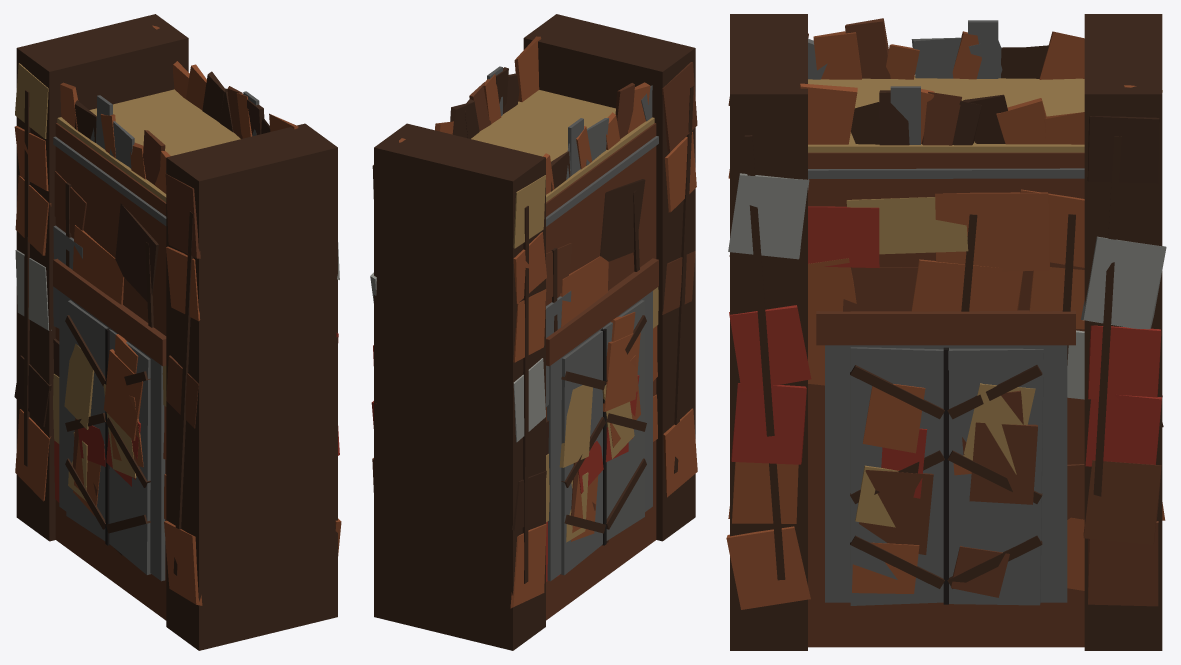
File: fort_scrap_inner.glb
3 views of the same model, side by side, from view 1: azimuth 30°, elevation 25°; view 2: azimuth 150°, elevation 25°; view 3: azimuth 270°, elevation 25° (orthographic). The views are drawn at different scales.
Parts seen in each view (by area): view 1: fort_scrap_inner; view 2: fort_scrap_inner; view 3: fort_scrap_inner.
Part boxes in pixels (x1,y1,x2,y2): fort_scrap_inner: (14,14,341,650); fort_scrap_inner: (370,14,697,650); fort_scrap_inner: (726,14,1166,650).
Bounding box in the file's own units: 4.58 × 14.27 × 10.18.
